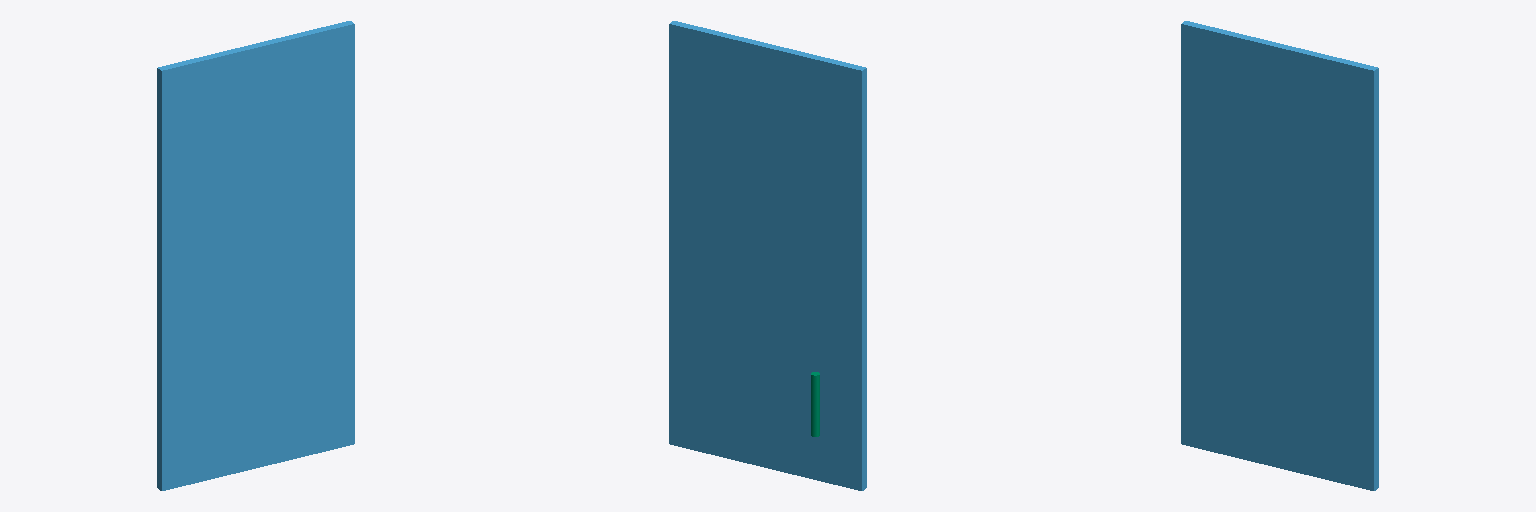
robot.urdf — cabinet_door_model:
<robot name="cabinet_door_model">
  <link name="world"/>
  <link name="cabinet_door_plate">
    <inertial>
      <mass value="1.0" />
      <origin xyz="0 0 0.0" /> 
      <inertia  ixx="0.01" ixy="0.0"  ixz="0.0"  iyy="0.01"  iyz="0.0"  izz="0.01" />
    </inertial>
    <visual>
      <origin xyz="-0.01 -0.245 0" rpy="0 0 0" />
      <geometry>
        <box size="0.02 0.49 1.02"/>
      </geometry>
    </visual>
    <collision>
      <origin xyz="-0.01 -0.245 0" rpy="0 0 0" />
      <geometry>
        <box size="0.02 0.49 1.02"/>
      </geometry>
    </collision>
  </link>
  <link name="cabinet_door_handle">
    <inertial>
      <mass value="0.1" />
      <origin xyz="0 0 0.0" /> 
      <inertia  ixx="0.01" ixy="0.0"  ixz="0.0"  iyy="0.01"  iyz="0.0"  izz="0.01" />
    </inertial>
    <visual>
      <origin xyz="0 0 0" rpy="0 0 0" />
      <geometry>
        <cylinder radius="0.01" length="0.15"/>
      </geometry>
    </visual>
    <collision>
      <origin xyz="0 0 0" rpy="0 0 0" />
      <geometry>
        <cylinder radius="0.01" length="0.15"/>
      </geometry>
    </collision>
  </link>
  <joint name="cabinet_door_hinge" type="revolute">
    <parent link="world"/>
    <child link="cabinet_door_plate"/>
    <!-- x = -0.235 + offset
         y =  0.245 + offset
         z =  0.510 + offset -->
    <origin xyz="-0.545 -0.755 1.43" rpy="0 0 -1.5707"/>
    <axis xyz="0 0 1"/>
    <limit upper="0" lower="-2.3561944" velocity="100" effort="100"/>
  </joint>
  <joint name="cabinet_door_handle_hinge" type="fixed">
    <parent link="cabinet_door_plate"/>
    <child link="cabinet_door_handle"/>
    <origin xyz="-0.07 -0.40 -0.3"/>
    <limit upper="0" lower="-2.3561944" velocity="100" effort="100"/>
  </joint>
  <gazebo reference="cabinet_door_plate">
    <dampingFactor>0.3</dampingFactor>
  </gazebo>

</robot>

--- What the picture shows (computed from the rendered views, not written in the file) ---
3 views of the same robot in one strip: view 1: azimuth 30°, elevation 25°; view 2: azimuth 150°, elevation 25°; view 3: azimuth 330°, elevation 25° (orthographic).
Robot: cabinet_door_model — 3 links, 2 joints (1 revolute, 1 fixed); root link world; default pose: all joints at 0.
Links seen in each view (by area): view 1: cabinet_door_plate; view 2: cabinet_door_plate, cabinet_door_handle; view 3: cabinet_door_plate.
Link boxes in pixels (x1,y1,x2,y2): cabinet_door_plate: (157,21,354,490); cabinet_door_plate: (669,21,866,490); cabinet_door_handle: (811,372,819,436); cabinet_door_plate: (1181,21,1378,490).
Bounding box of the posed robot: 0.49 × 0.08 × 1.02 m (x, y, z).
Geometry: primitives only (box / cylinder / sphere), no mesh files.